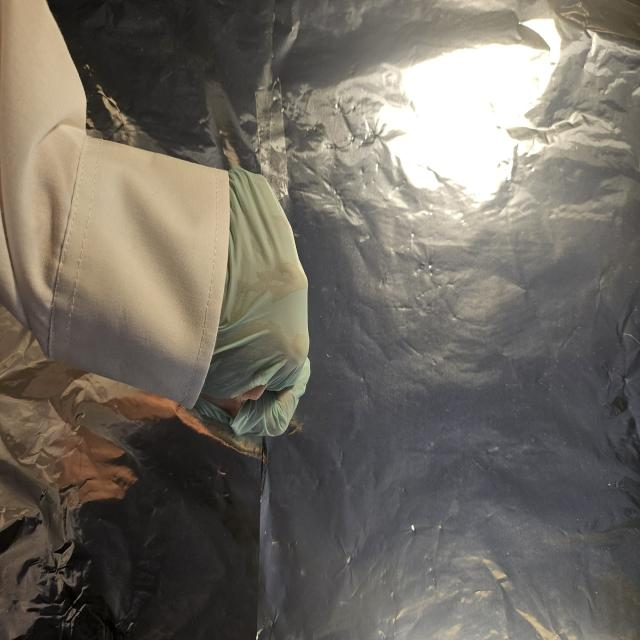gloves_damaged: (196, 158, 314, 448)
